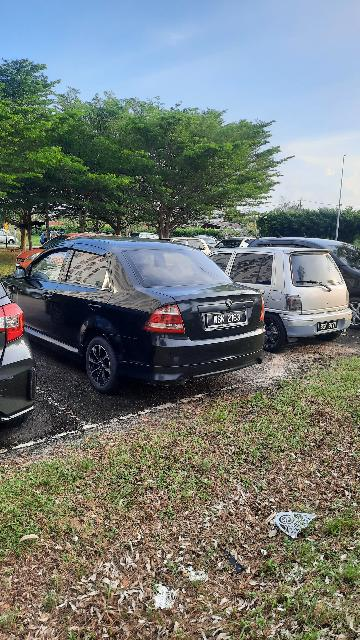License_Plate: (202, 306, 252, 332), (316, 320, 344, 334)
car: (3, 237, 269, 395), (202, 242, 356, 352)
